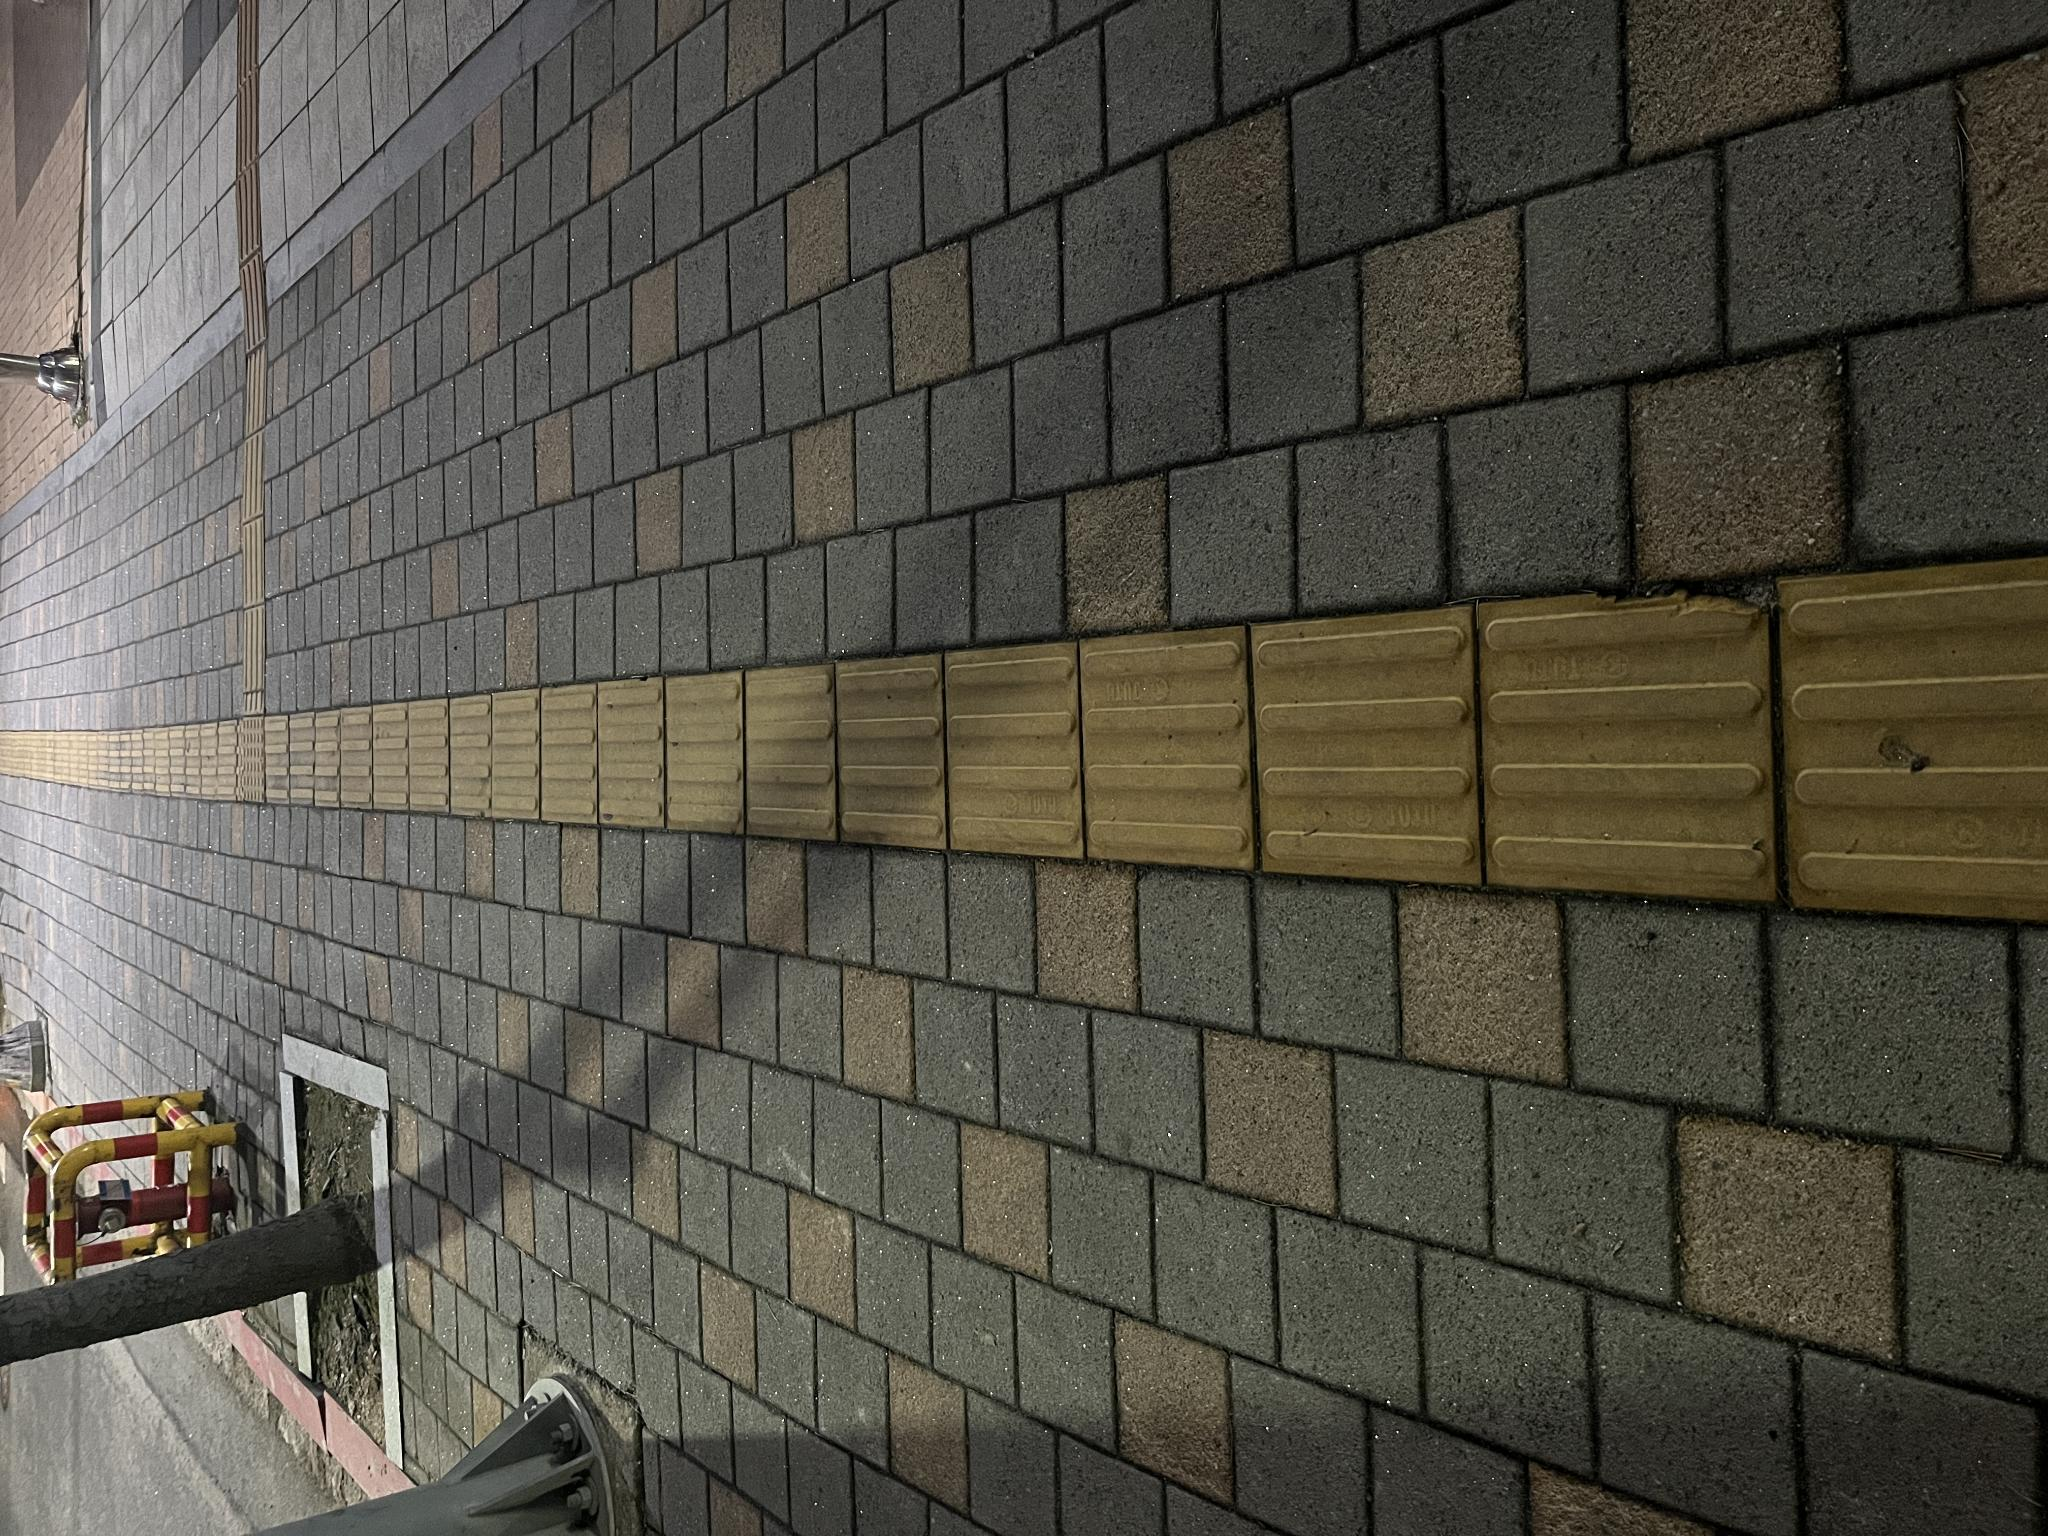Straight block normal: (656, 1254, 929, 1476), (669, 1081, 910, 1254), (681, 947, 890, 1079), (689, 839, 880, 944), (695, 747, 871, 836), (705, 666, 864, 744), (710, 600, 858, 663)
